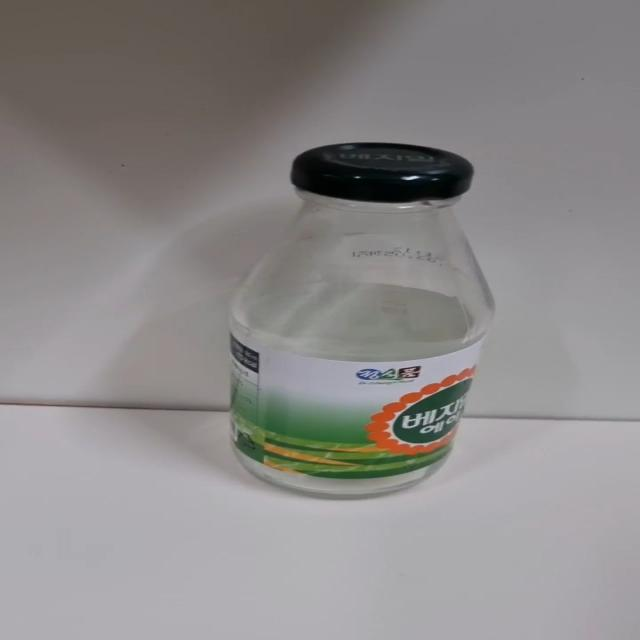Glass: (226, 141, 509, 502)
